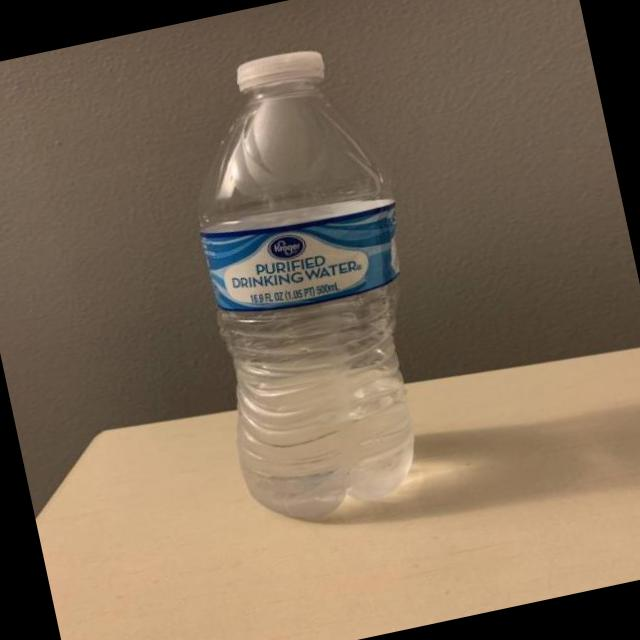plastic_bottle: (156, 36, 458, 534)
